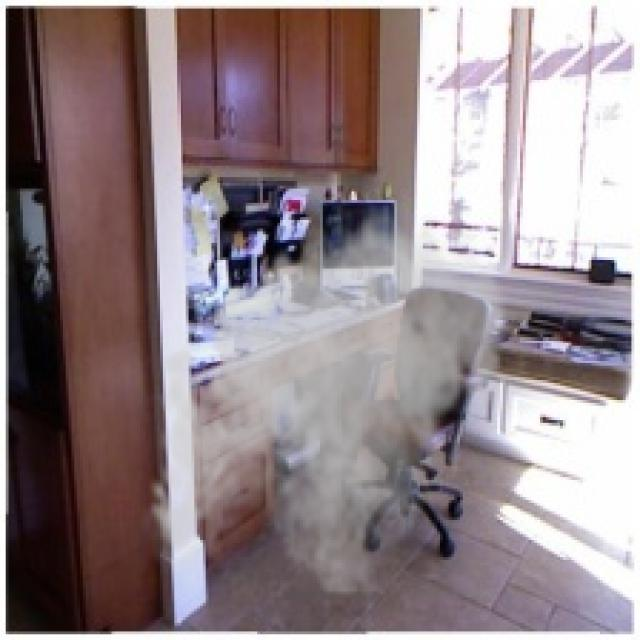smoke: (137, 197, 514, 597)
